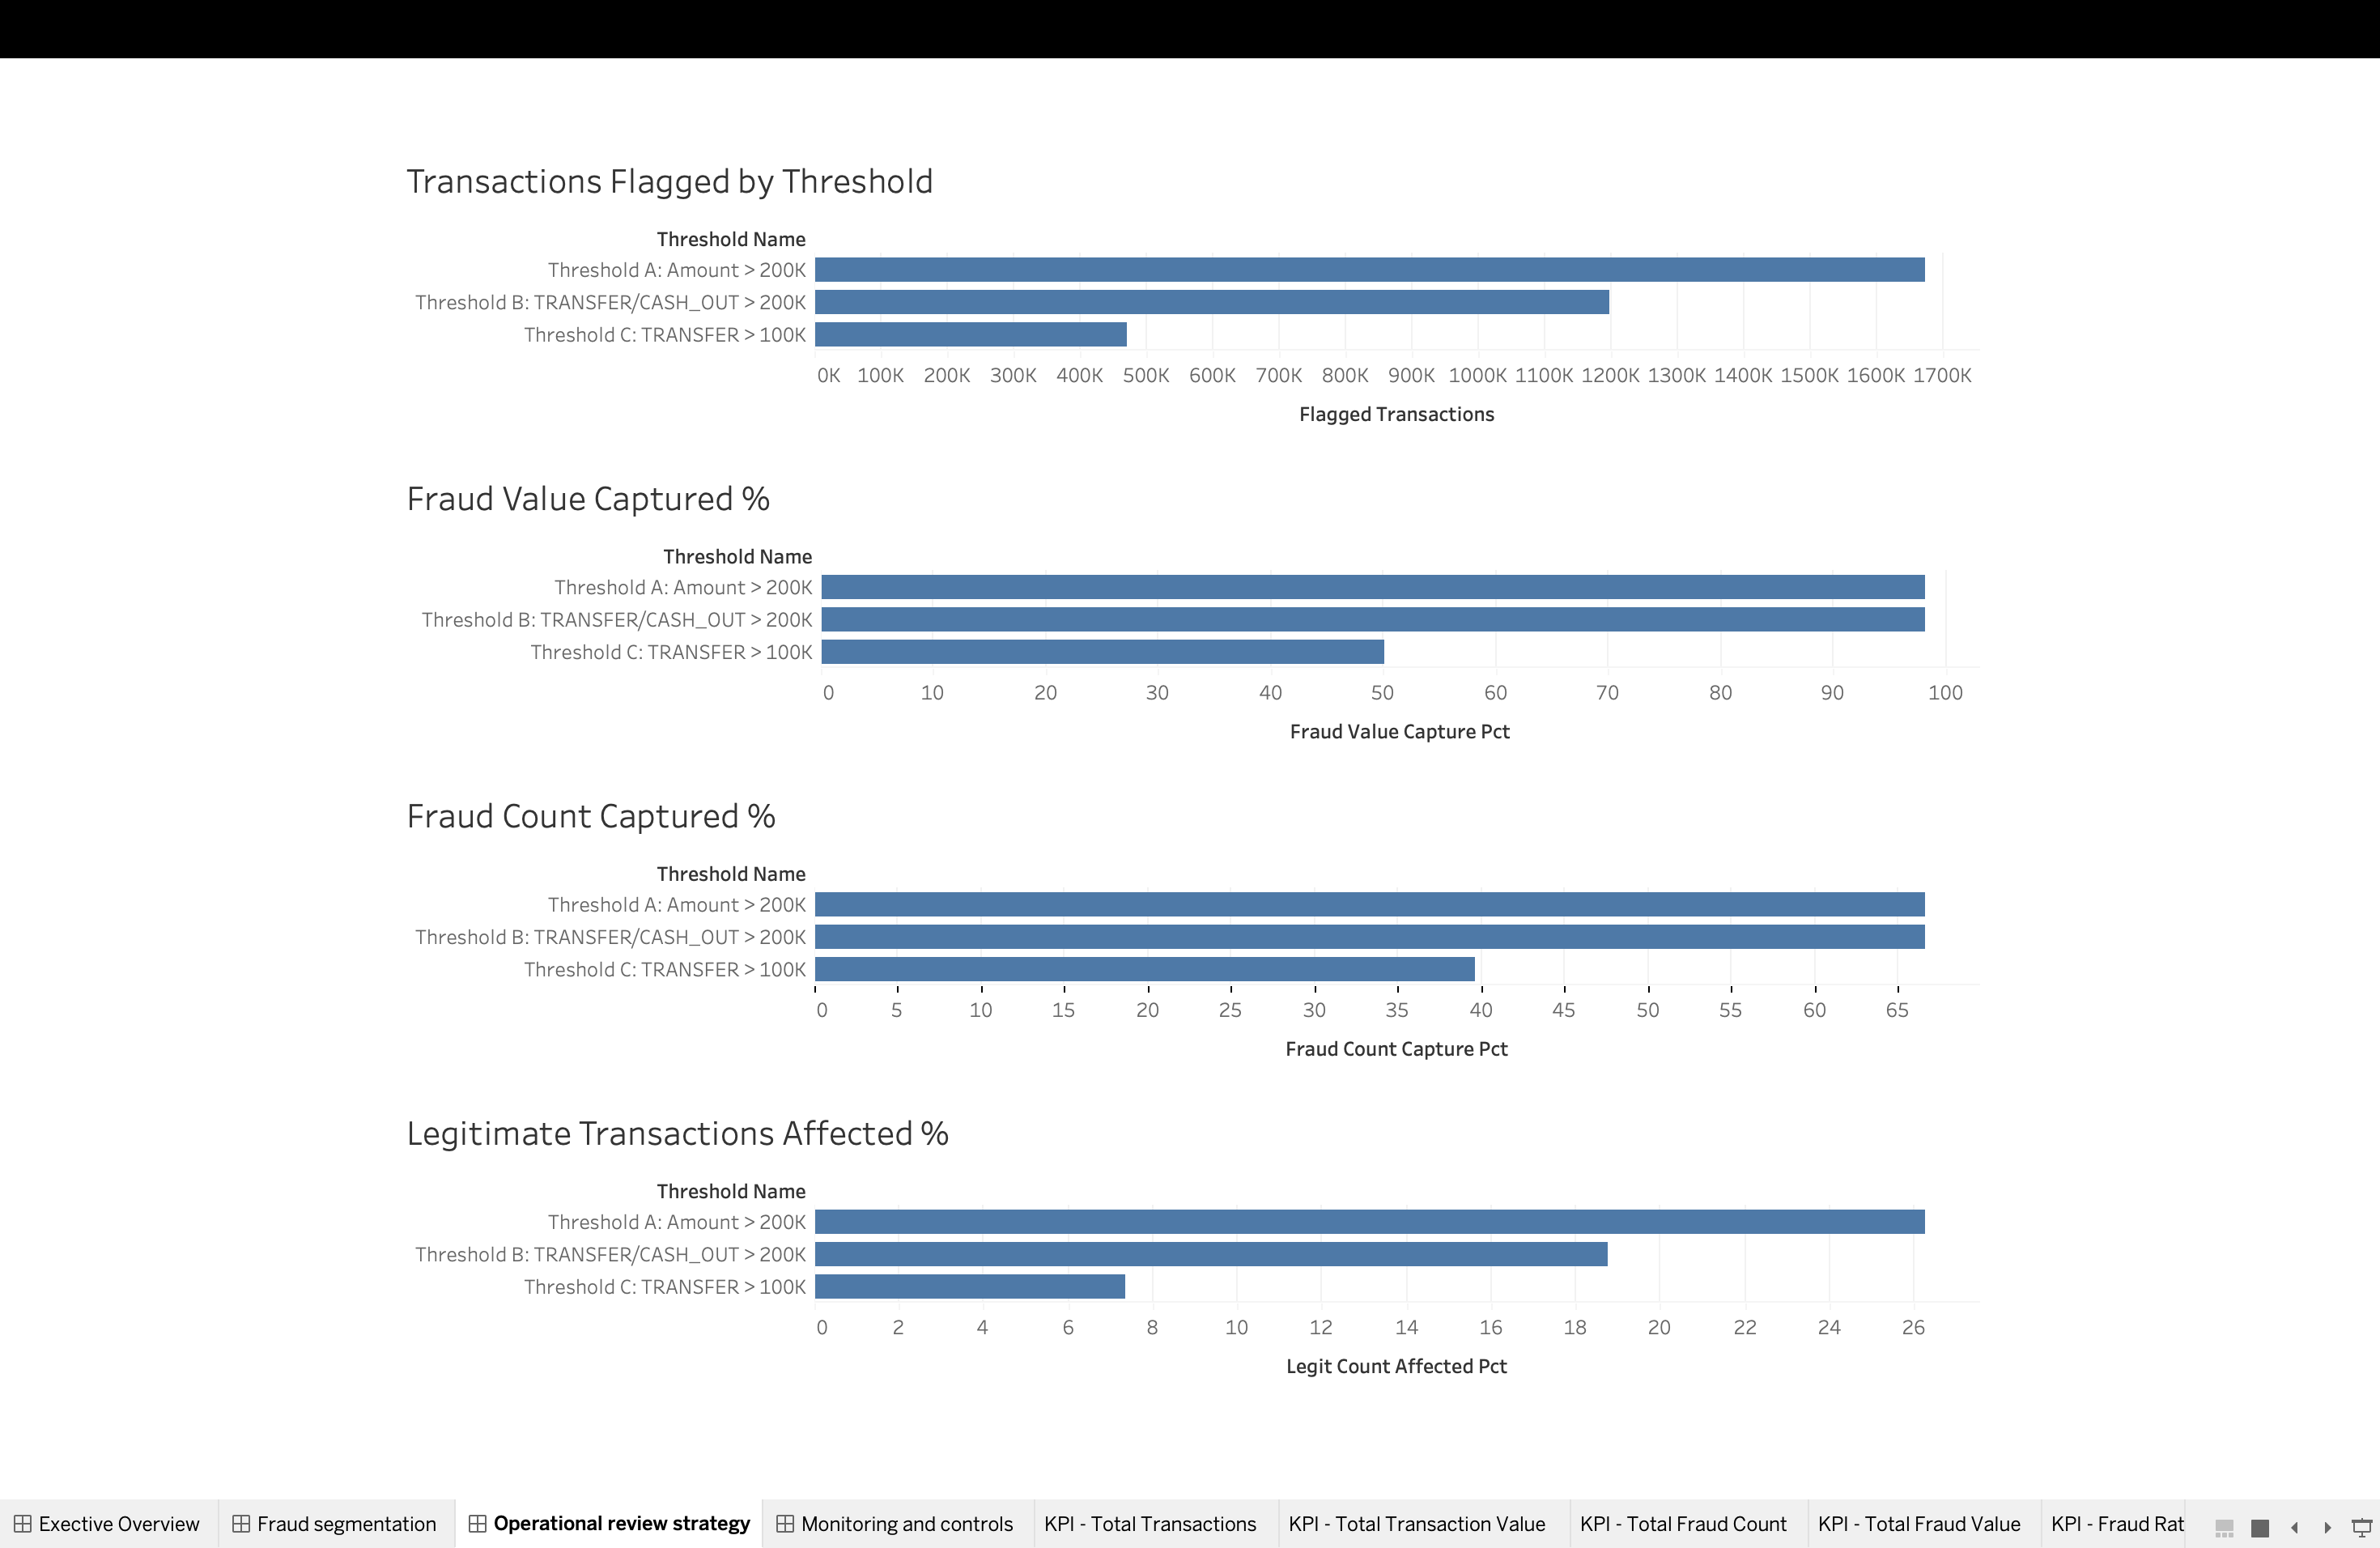

The page's visual inventory and layout, read from the dashboard file:
{"tool":"tableau","page":{"name":"Operational review strategy","canvas":[1000,800],"ordinal":3},"visuals":[{"type":"worksheet","title":"Transactions Flagged by Threshold","mark":"Automatic","rows":["threshold_name"],"cols":["flagged_transactions"],"box":[8,8,984,196]},{"type":"worksheet","title":"Fraud Value Captured %","mark":"Automatic","rows":["threshold_name"],"cols":["fraud_value_capture_pct"],"box":[8,204,984,196]},{"type":"worksheet","title":"Fraud Count Captured %","mark":"Automatic","rows":["threshold_name"],"cols":["fraud_count_capture_pct"],"box":[8,400,984,196]},{"type":"worksheet","title":"Legitimate Transactions Affected %","mark":"Automatic","rows":["threshold_name"],"cols":["legit_count_affected_pct"],"box":[8,596,984,196]}]}

Visuals, with their boxes on the page's 1000x800 design canvas (x1, y1, x2, y2). These are canvas units, not pixel positions in the 2380x1548 screenshot, which may show the page scaled, cropped or inside an application window:
"Transactions Flagged by Threshold" worksheet: 8/8/992/204
"Fraud Value Captured %" worksheet: 8/204/992/400
"Fraud Count Captured %" worksheet: 8/400/992/596
"Legitimate Transactions Affected %" worksheet: 8/596/992/792
